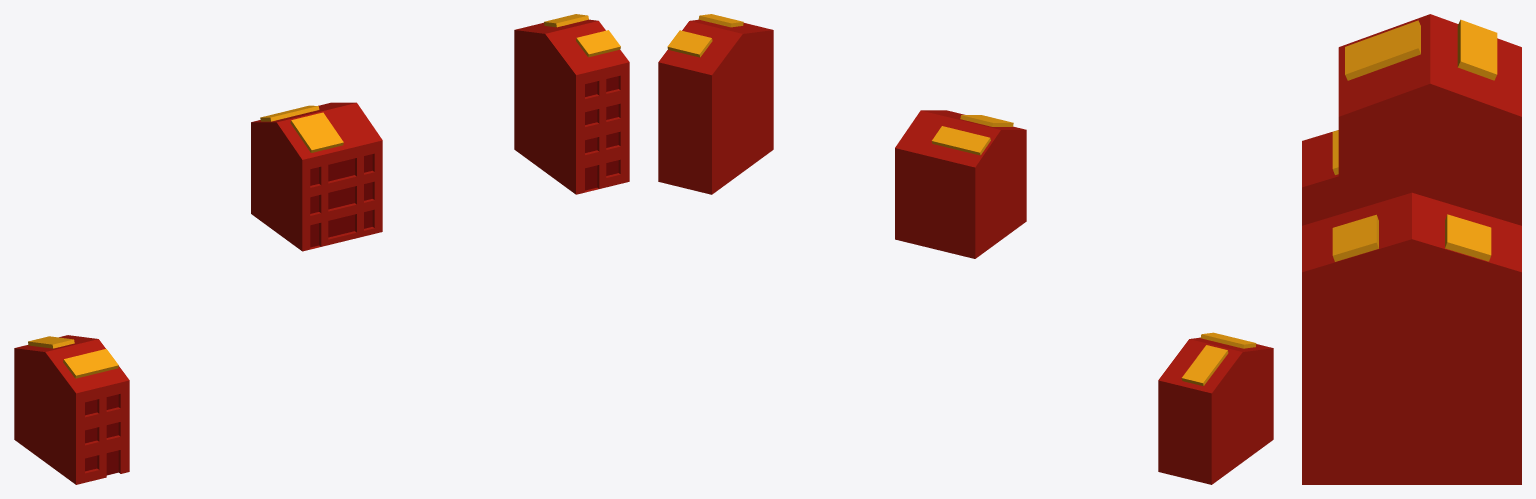
File: BinaGrup15.gltf
3 renders of one model, left to right at view 1: azimuth 30°, elevation 25°; view 2: azimuth 150°, elevation 25°; view 3: azimuth 270°, elevation 25°, orthographic. The views are drawn at different scales.
Parts seen in each view (by area): view 1: Building_067.003, Building_053.003, Building_040.003, Building_053.005, Building_053_RoofCap_0.001, Building_067.005, Building_040_RoofCap_0.001, Building_040.005, Building_067_RoofCap_0.001; view 2: Building_067.003, Building_053.003, Building_040.003, Building_053_RoofCap_1.001, Building_040_RoofCap_1.001, Building_067_RoofCap_1.001; view 3: Building_067.003, Building_053.003, Building_040.003, Building_053_RoofCap_0.001, Building_053_RoofCap_1.001, Building_067_RoofCap_0.001, Building_067_RoofCap_1.001, Building_040_RoofCap_0.001.
Part boxes in pixels (x1,y1,x2,y2): Building_067.003: (514,19,629,194); Building_053.003: (251,102,382,251); Building_040.003: (14,335,129,484); Building_053.005: (310,154,372,237); Building_053_RoofCap_0.001: (290,112,343,152); Building_067.005: (585,76,618,175); Building_040_RoofCap_0.001: (63,349,118,378); Building_040.005: (85,394,118,471); Building_067_RoofCap_0.001: (576,30,620,57); Building_067.003: (658,19,773,194); Building_053.003: (895,110,1026,258); Building_040.003: (1158,337,1273,484); Building_053_RoofCap_1.001: (932,126,990,155); Building_040_RoofCap_1.001: (1181,345,1228,385); Building_067_RoofCap_1.001: (667,30,712,57); Building_067.003: (1302,192,1521,484); Building_053.003: (1338,14,1521,225); Building_040.003: (1302,131,1338,225); Building_053_RoofCap_0.001: (1345,20,1420,80); Building_053_RoofCap_1.001: (1457,19,1497,80); Building_067_RoofCap_0.001: (1332,214,1378,261); Building_067_RoofCap_1.001: (1445,214,1491,261); Building_040_RoofCap_0.001: (1332,130,1338,174).
Bounding box in the file's own units: 0.337 × 0.1783 × 0.0652.
